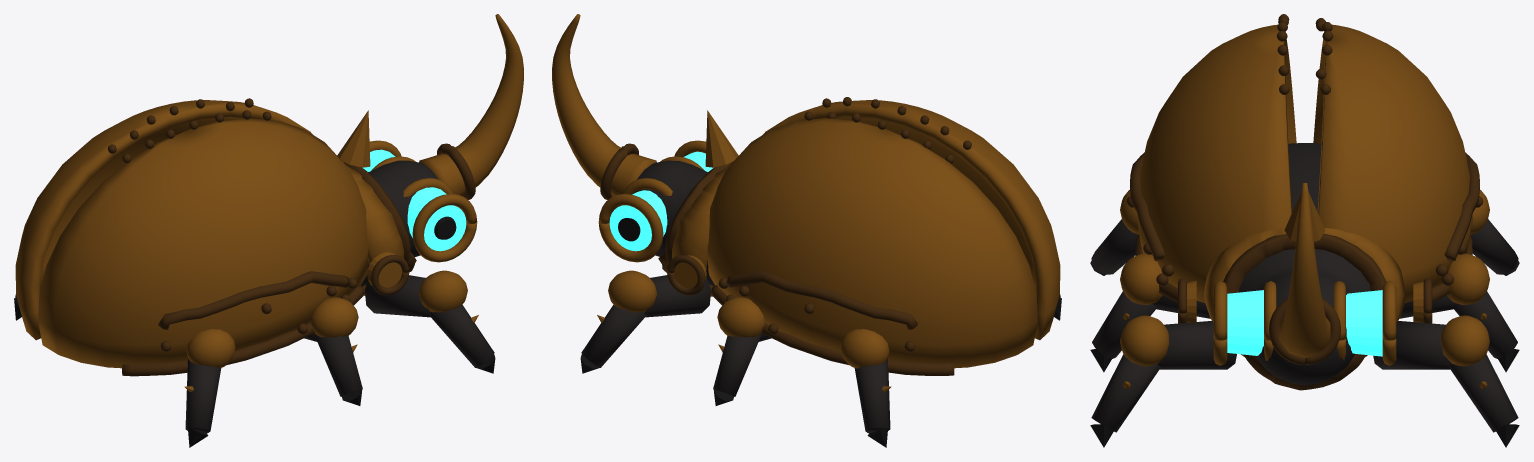
The model's file is beetle.glb.
The picture shows the model from 3 angles, left to right: view 1: azimuth 30°, elevation 25°; view 2: azimuth 150°, elevation 25°; view 3: azimuth 270°, elevation 25°; orthographic projection. The views are drawn at different scales.
Parts seen in each view (by area): view 1: Elytron_N, Elytron_F, Horn, Elytron_N_Groove, Collar, Elytron_N_Edge, Lens_N_Rim0, Body, Leg_02a_Shin, Leg_00a_Shin, Lens_N, Leg_01b_Shin (+10 smaller); view 2: Elytron_F, Elytron_N, Horn, Elytron_F_Groove, Collar, Body, Lens_F_Rim1, Elytron_F_Edge, Leg_02b_Shin, Leg_00b_Shin, Leg_01a_Shin, Leg_00b_Thigh (+10 smaller); view 3: Elytron_F, Elytron_N, Body, Horn, Collar_Rim, Collar, Leg_00a_Thigh, Leg_00b_Thigh, Leg_00a_Shin, Leg_00b_Shin, Lens_N, Lens_F (+22 smaller).
Boxes of the visible parts, <box> form: Elytron_N: <box>38,118,368,368</box>; Elytron_F: <box>15,100,312,340</box>; Horn: <box>419,14,523,196</box>; Elytron_N_Groove: <box>158,271,349,329</box>; Collar: <box>342,161,403,295</box>; Elytron_N_Edge: <box>122,285,364,376</box>; Lens_N_Rim0: <box>412,194,477,262</box>; Body: <box>360,160,438,286</box>; Leg_02a_Shin: <box>185,359,221,433</box>; Leg_00a_Shin: <box>428,305,494,367</box>; Lens_N: <box>407,187,466,251</box>; Leg_01b_Shin: <box>314,333,362,396</box>; Elytron_F: <box>707,118,1037,368</box>; Elytron_N: <box>763,100,1060,340</box>; Horn: <box>552,14,656,196</box>; Elytron_F_Groove: <box>726,271,917,329</box>; Collar: <box>672,161,733,296</box>; Body: <box>634,160,715,286</box>; Lens_F_Rim1: <box>598,194,663,262</box>; Elytron_F_Edge: <box>711,285,954,375</box>; Leg_02b_Shin: <box>854,359,890,433</box>; Leg_00b_Shin: <box>581,305,647,367</box>; Leg_01a_Shin: <box>713,333,761,396</box>; Leg_00b_Thigh: <box>644,275,711,317</box>; Elytron_F: <box>1313,24,1472,302</box>; Elytron_N: <box>1137,24,1296,302</box>; Body: <box>1239,143,1370,385</box>; Horn: <box>1279,183,1330,357</box>; Collar_Rim: <box>1223,233,1386,390</box>; Collar: <box>1204,227,1405,356</box>; Leg_00a_Thigh: <box>1157,321,1236,369</box>; Leg_00b_Thigh: <box>1373,321,1452,369</box>; Leg_00a_Shin: <box>1091,354,1160,432</box>; Leg_00b_Shin: <box>1449,354,1518,432</box>; Lens_N: <box>1227,290,1263,355</box>; Lens_F: <box>1346,290,1382,356</box>.
Size of the model in its own units: 1.43 by 0.7654 by 0.94.
